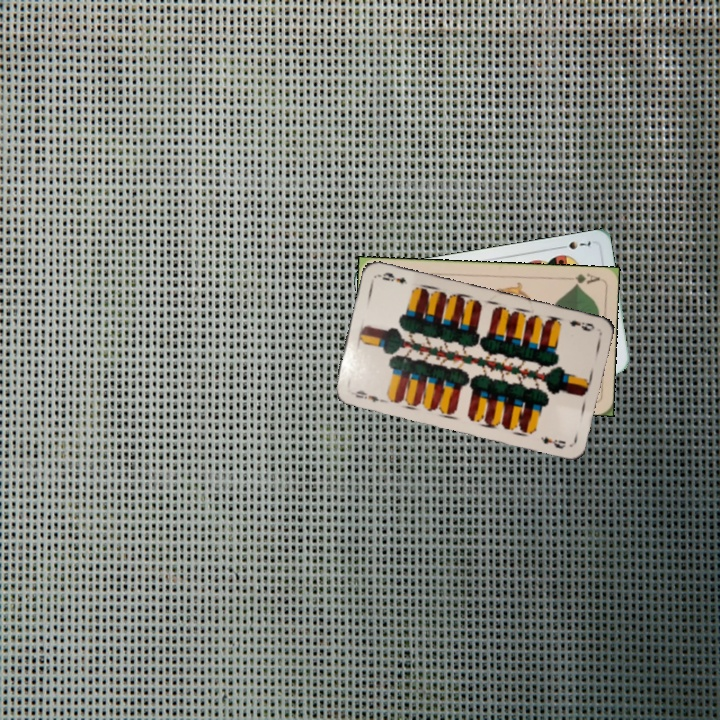E9: (347, 386, 387, 405), (565, 316, 597, 334)
GA: (562, 269, 602, 289)
S7: (555, 237, 594, 252)
